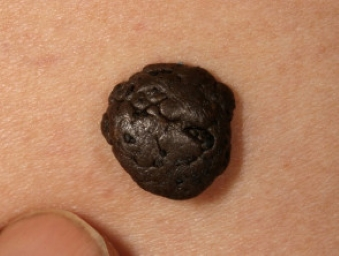seborrheic keratosis: (74, 40, 260, 205)
